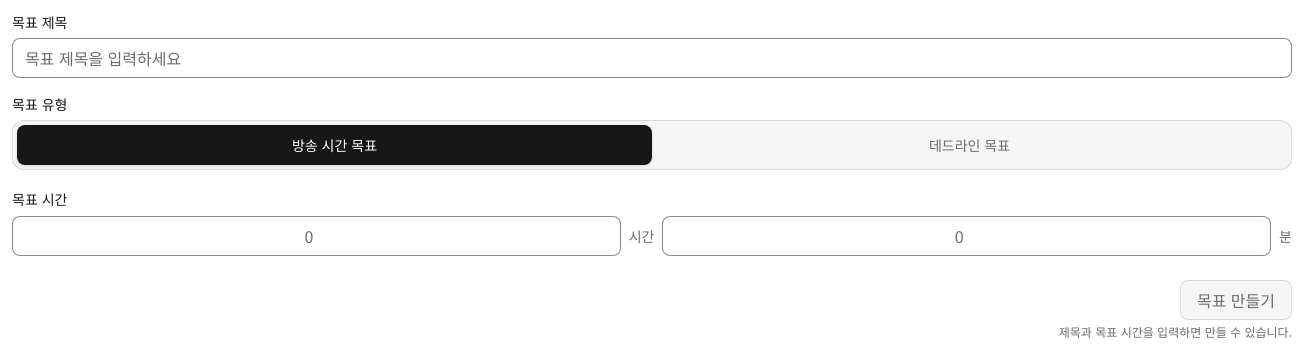
GoalForm › 분 90은 1시간 30분으로 올린다
Type "90" into the number field named "분". click: (967, 236)
box: x1=662 y1=216 x2=1271 y2=256
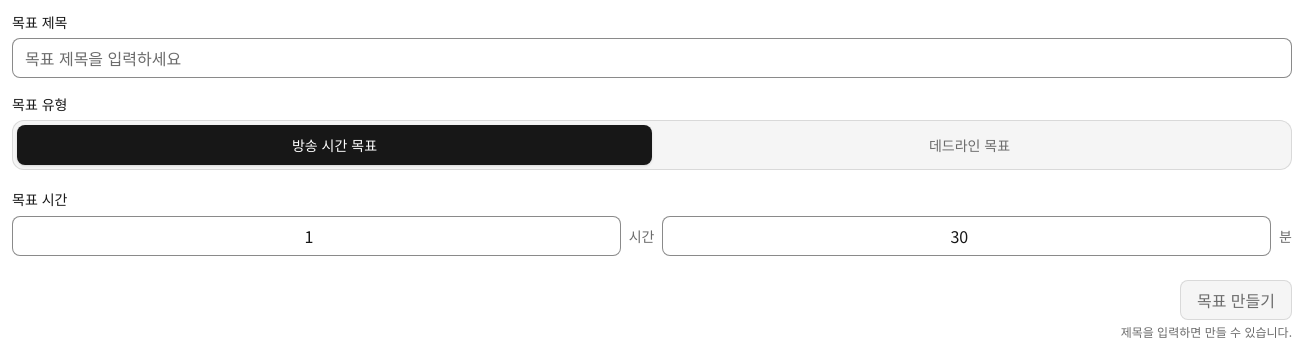
Expected: the number field named "시간" holds "1", x1=12 y1=216 x2=621 y2=256
Expected: the number field named "분" holds "30", x1=662 y1=216 x2=1271 y2=256
